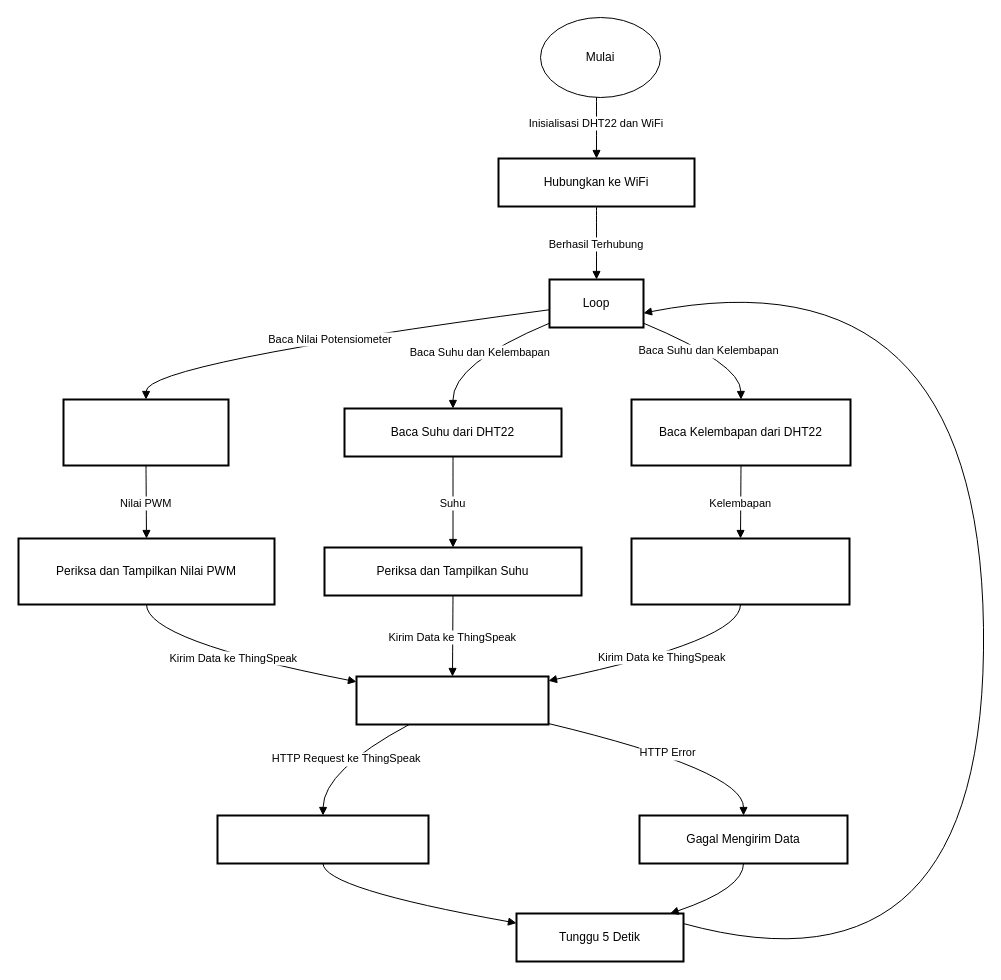
Some shapes in this 1001 by 980 pixel diagram are drawn without their labels. The shapes that lost their labels are listed below. From the top down, each one's centre as x and y in pixels, then its label:
the point at 145,432: Nilai PWM dari Potensiometer
the point at 740,571: Periksa dan Tampilkan Kelembapan
the point at 452,700: SendToThingSpeak
the point at 322,839: Data Berhasil Dikirim
